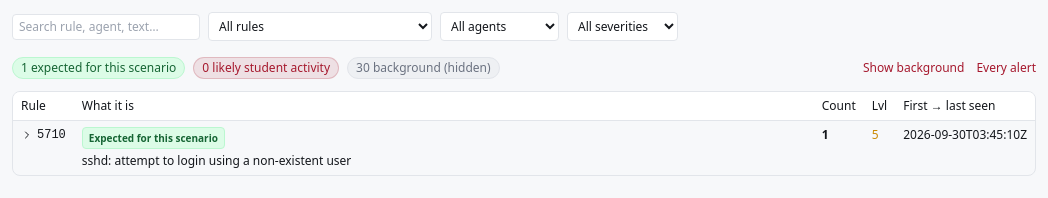
filters past-lab alerts by search text and rule
This screenshot has width=1048, height=198.
In the search field named "Search alerts": (106, 26) [12, 14, 200, 40], type "sshd"
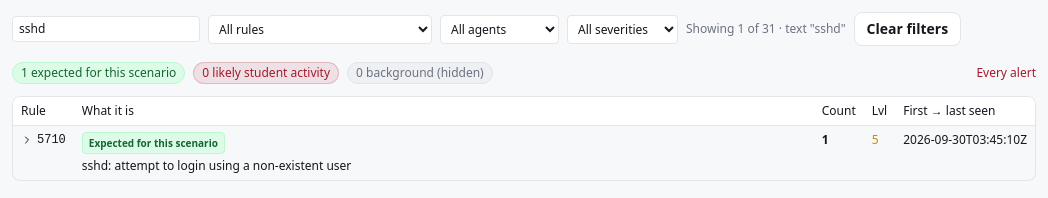
Expected: the text "sshd: attempt to login using a non-existent user" is shown, [82, 157, 351, 174]
Expected: the text with test id "lab-alert-filter-summary" shows "Showing 1 of 31", [686, 21, 846, 37]
Select "19007 — CIS: Ensure permissions on /etc/shadow" in the dropdown named "Filter by rule": (320, 29) [208, 14, 432, 44]
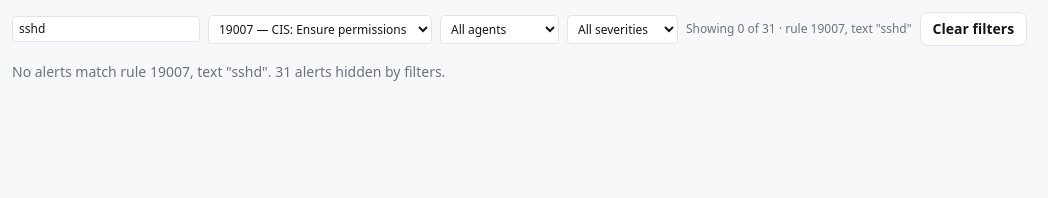
Expected: the text "No alerts match" is shown, [12, 62, 445, 81]
